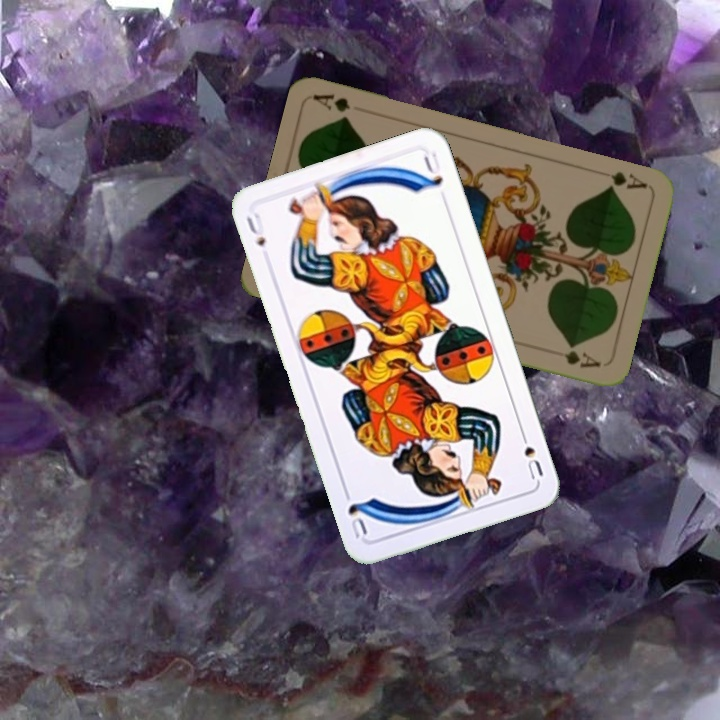GA: (592, 166, 650, 192)
SU: (516, 425, 546, 482), (242, 209, 268, 250)
